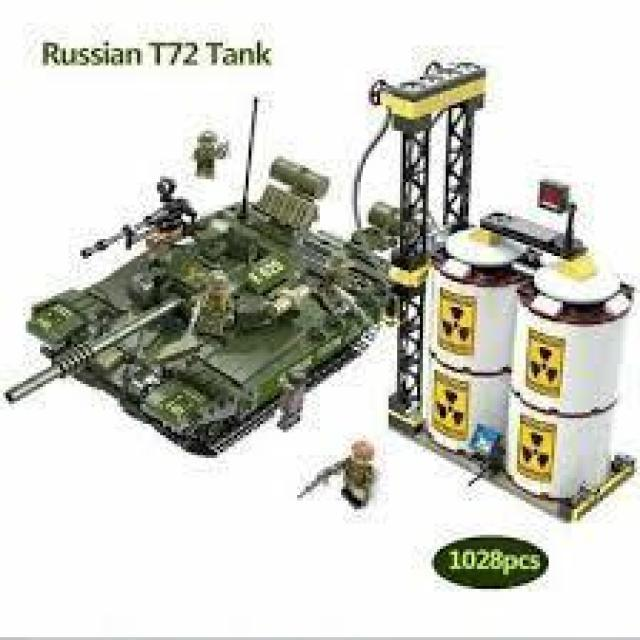MIL_MBT: (13, 64, 413, 562)
